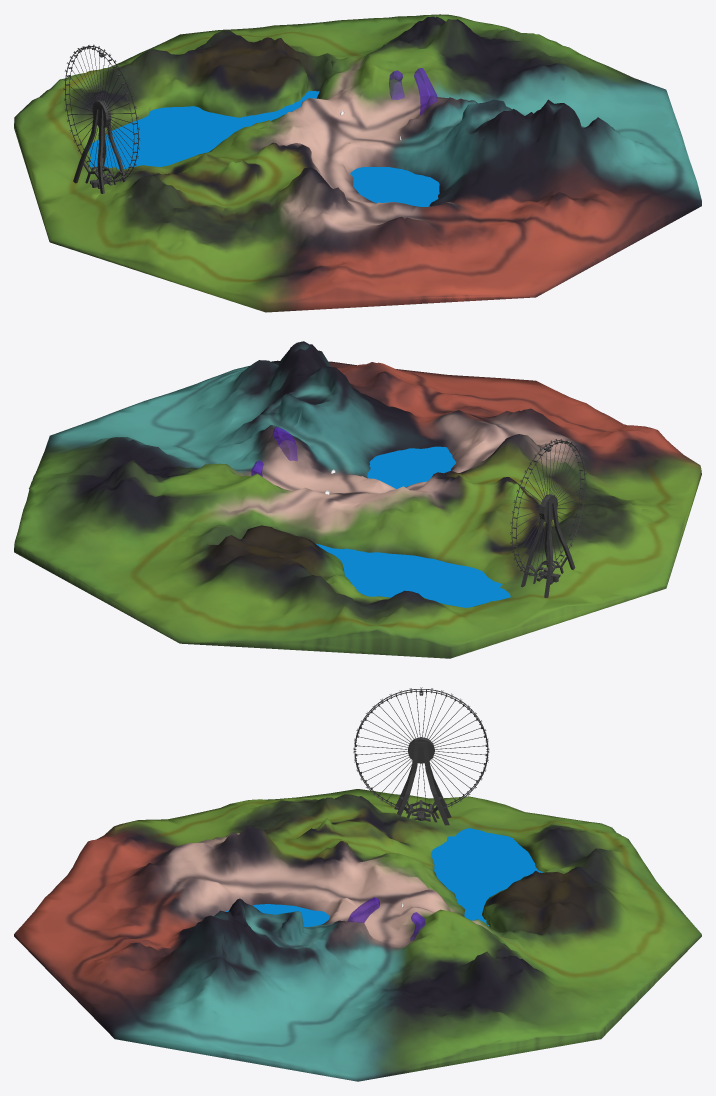
File: lobby_deleted12.glb
3 views of the same model, one above another, from view 1: azimuth 30°, elevation 25°; view 2: azimuth 150°, elevation 25°; view 3: azimuth 270°, elevation 25° (orthographic). The views are drawn at different scales.
Parts seen in each view (by area): view 1: Landscape, ocean 01, wheel, ocean 02, Object_184.001, Object_20.001; view 2: Landscape, ocean 01, wheel, ocean 02, Object_184.001, Object_20.001; view 3: Landscape, ocean 01, wheel, Object_184.001, ocean 02, Object_20.001.
Part boxes in pixels (left/top/right/bottom): Landscape: left=14, top=14, right=701, bottom=312; ocean 01: left=89, top=91, right=319, bottom=169; wheel: left=63, top=44, right=139, bottom=183; ocean 02: left=350, top=166, right=439, bottom=206; Object_184.001: left=73, top=103, right=126, bottom=193; Object_20.001: left=389, top=68, right=437, bottom=115; Landscape: left=14, top=341, right=701, bottom=658; ocean 01: left=315, top=543, right=510, bottom=607; wheel: left=510, top=439, right=586, bottom=577; ocean 02: left=367, top=446, right=456, bottom=488; Object_184.001: left=521, top=497, right=575, bottom=597; Object_20.001: left=251, top=427, right=297, bottom=476; Landscape: left=14, top=789, right=701, bottom=1081; ocean 01: left=431, top=828, right=543, bottom=926; wheel: left=353, top=687, right=489, bottom=813; Object_184.001: left=394, top=742, right=451, bottom=825; ocean 02: left=225, top=904, right=329, bottom=926; Object_20.001: left=347, top=897, right=425, bottom=940.
Bounding box in the file's own units: 490 × 143 × 490.
Materials: 6 (1 with a texture image).
